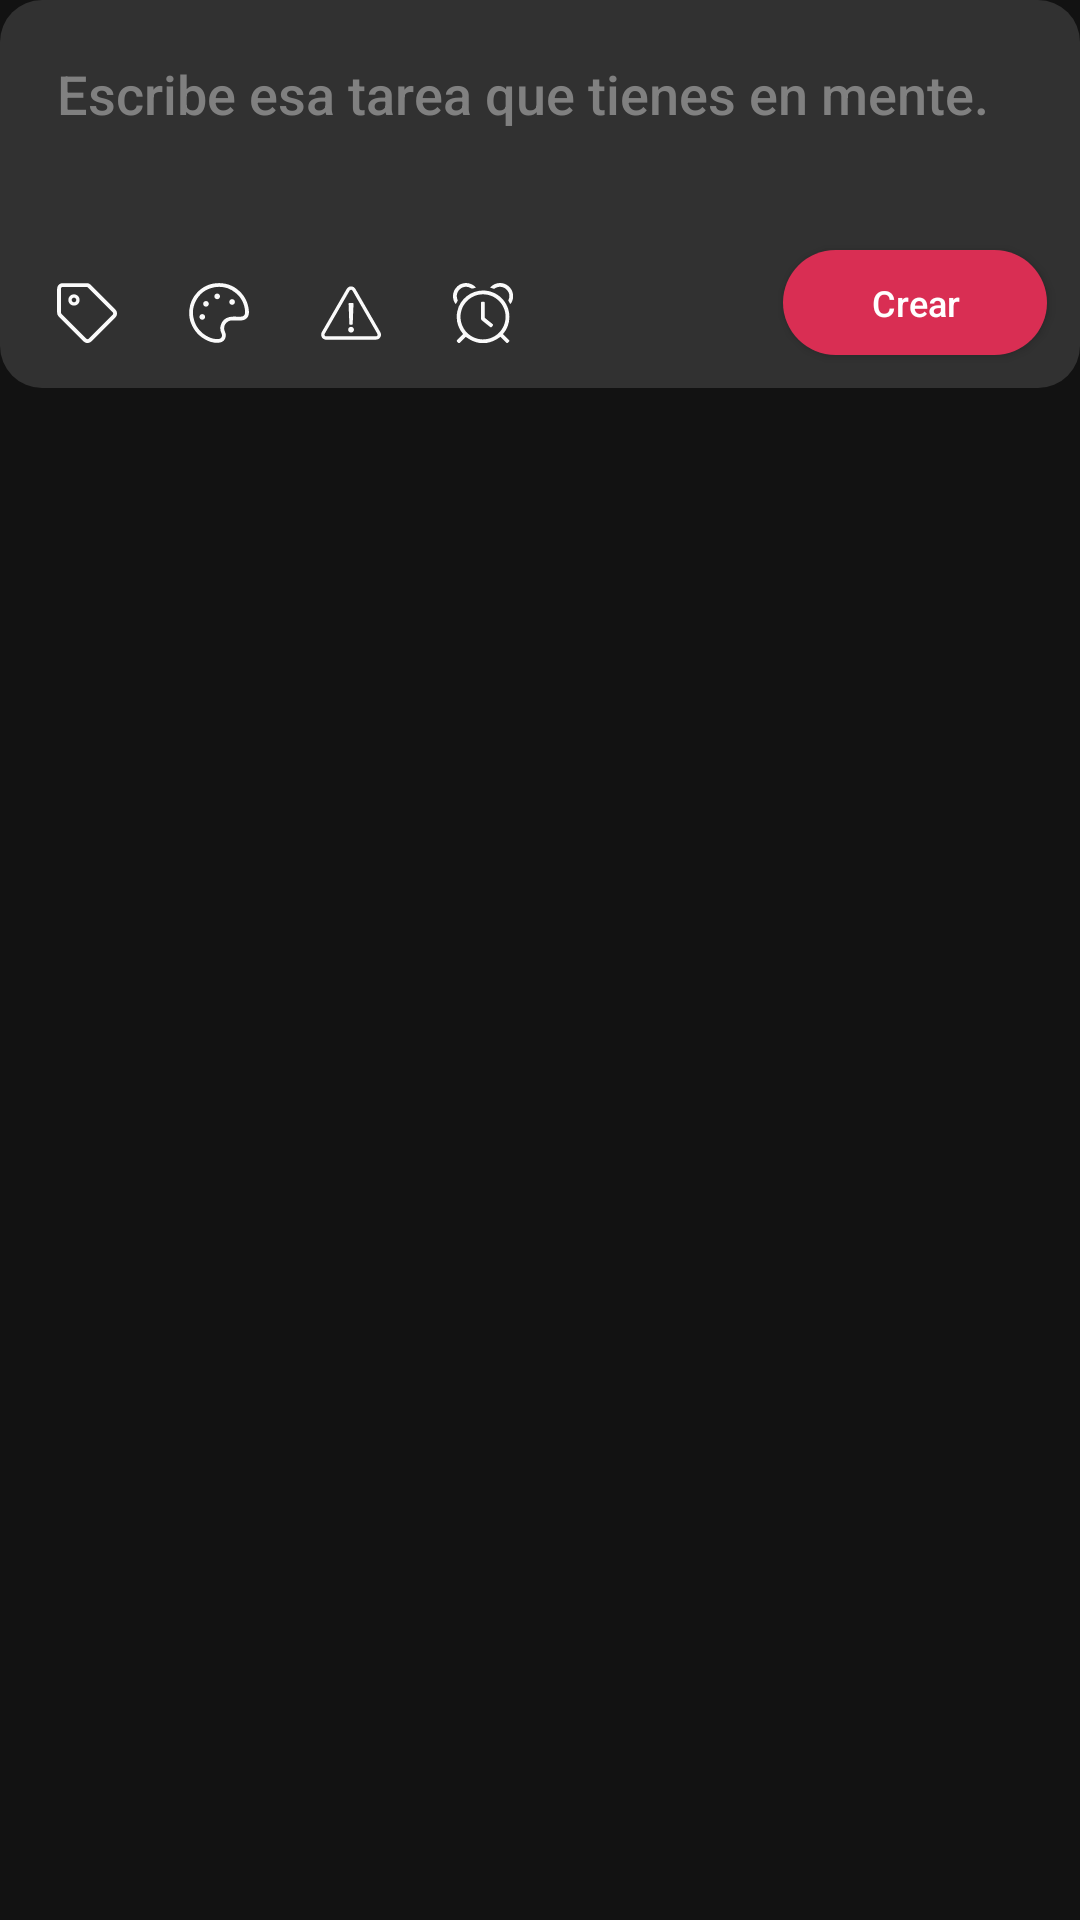

Icon bounding boxes for this 1080*1920 phone screenshot, format (x1, y1, x2, y2):
important: (321, 286, 381, 340)
tag: (57, 283, 117, 343)
time: (453, 283, 513, 343)
